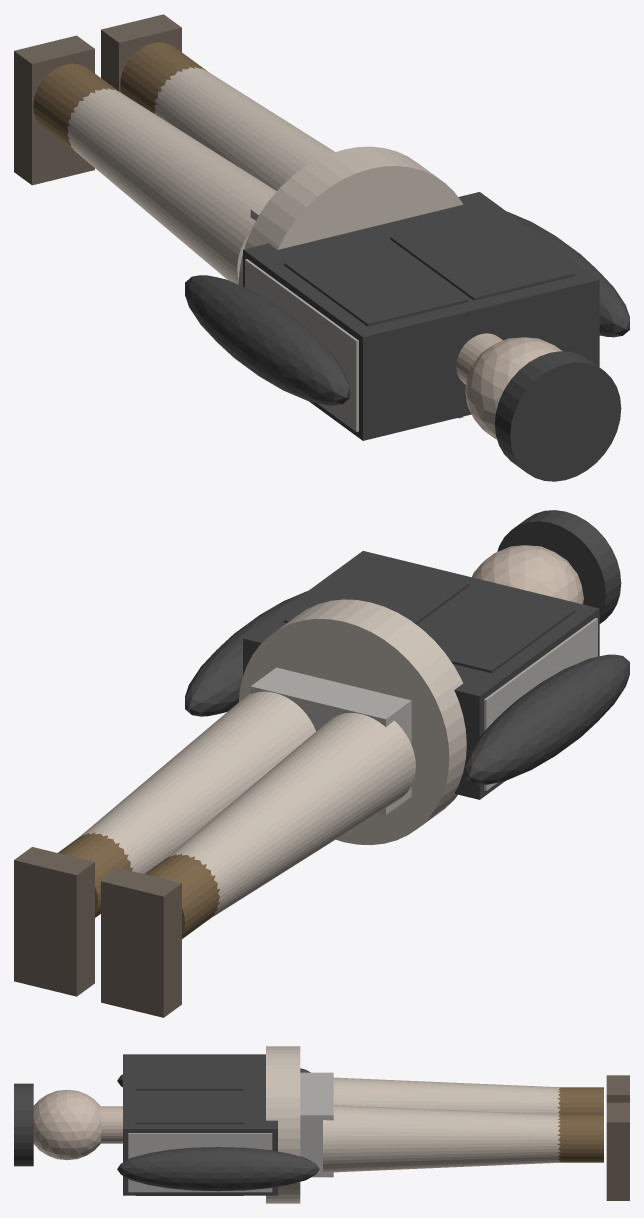
The model's file is MASTER_119_STAGE3_DETAIL.glb.
3 views of the same model, one above another, from view 1: azimuth 30°, elevation 25°; view 2: azimuth 150°, elevation 25°; view 3: azimuth 270°, elevation 25° (orthographic). The views are drawn at different scales.
Visible parts, largest first — view 1: slot_upper_inner__këmishë, slot_lower_main__pantallona_L, slot_waist__brez, slot_headwear__mbulesë_koke, slot_upper_inner_sleeve_L, slot_lower_main__pantallona_R, slot_upper_outer__xhamadan_R, slot_upper_outer__xhamadan_L, slot_footwear__opinga_L, mannequin_torso, mannequin_head, slot_legwear__çorape_L (+4 smaller); view 2: slot_lower_main__pantallona_L, slot_waist__brez, slot_lower_main__pantallona_R, slot_footwear__opinga_R, slot_footwear__opinga_L, slot_upper_inner_sleeve_L, slot_upper_inner__këmishë, slot_upper_outer__xhamadan_L, slot_headwear__mbulesë_koke, slot_upper_outer__xhamadan_R, mannequin_hips, mannequin_head (+4 smaller); view 3: slot_lower_main__pantallona_R, slot_upper_inner_sleeve_R, slot_lower_main__pantallona_L, slot_upper_inner__këmishë, mannequin_head, slot_waist__brez, slot_upper_outer__xhamadan_R, slot_upper_outer__xhamadan_L, mannequin_torso, mannequin_hips, slot_footwear__opinga_R, slot_legwear__çorape_R (+4 smaller).
Part boxes in pixels (x1,y1,x2,y2): slot_upper_inner__këmishë: (243, 192, 599, 440); slot_lower_main__pantallona_L: (67, 88, 276, 284); slot_waist__brez: (238, 146, 462, 286); slot_headwear__mbulesë_koke: (495, 351, 621, 481); slot_upper_inner_sleeve_L: (185, 275, 349, 405); slot_lower_main__pantallona_R: (154, 67, 334, 190); slot_upper_outer__xhamadan_R: (390, 212, 575, 300); slot_upper_outer__xhamadan_L: (284, 238, 469, 326); slot_footwear__opinga_L: (14, 35, 94, 185); mannequin_torso: (245, 259, 358, 431); mannequin_head: (465, 337, 562, 439); slot_legwear__çorape_L: (33, 63, 119, 152); slot_lower_main__pantallona_L: (165, 713, 415, 918); slot_waist__brez: (239, 599, 466, 844); slot_lower_main__pantallona_R: (79, 691, 315, 873); slot_footwear__opinga_R: (14, 847, 94, 996); slot_footwear__opinga_L: (101, 868, 181, 1017); slot_upper_inner_sleeve_L: (465, 654, 629, 784); slot_upper_inner__këmishë: (243, 551, 599, 799); slot_upper_outer__xhamadan_L: (418, 585, 575, 673); slot_headwear__mbulesë_koke: (497, 510, 621, 623); slot_upper_outer__xhamadan_R: (284, 559, 469, 624); mannequin_hips: (250, 667, 411, 815); mannequin_head: (472, 545, 583, 604); slot_lower_main__pantallona_R: (323, 1105, 560, 1172); slot_upper_inner_sleeve_R: (117, 1147, 319, 1191); slot_lower_main__pantallona_L: (333, 1077, 560, 1114); slot_upper_inner__këmishë: (123, 1054, 277, 1195); mannequin_head: (33, 1089, 101, 1160); slot_waist__brez: (266, 1046, 300, 1203); slot_upper_outer__xhamadan_R: (135, 1090, 243, 1195); slot_upper_outer__xhamadan_L: (135, 1057, 243, 1090); mannequin_torso: (128, 1133, 272, 1192); mannequin_hips: (300, 1072, 333, 1177); slot_footwear__opinga_R: (606, 1102, 629, 1200); slot_legwear__çorape_R: (557, 1114, 603, 1162).
Size of the model in its own units: 0.7033 by 0.4364 by 1.71.
